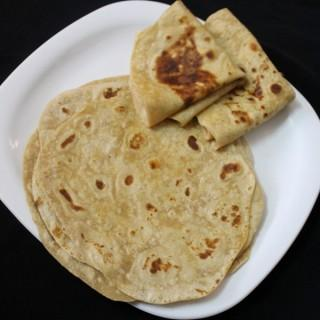chapati: (24, 76, 264, 303), (129, 1, 245, 127), (198, 9, 295, 148)
